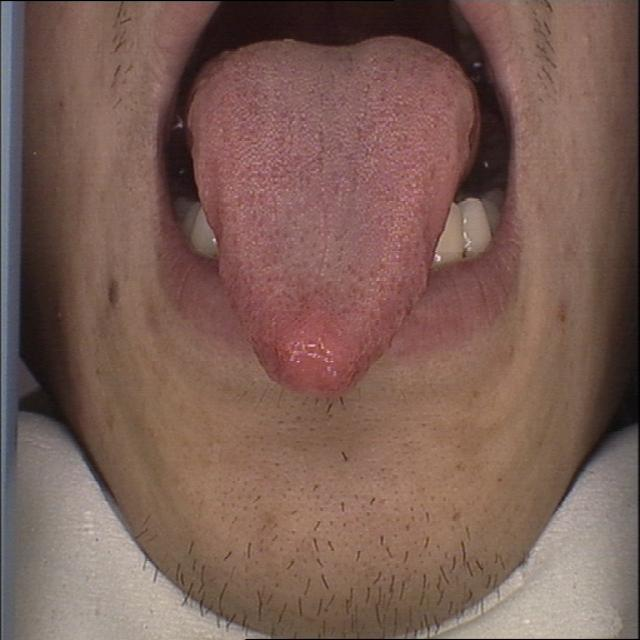tongue: (180, 29, 480, 398)
